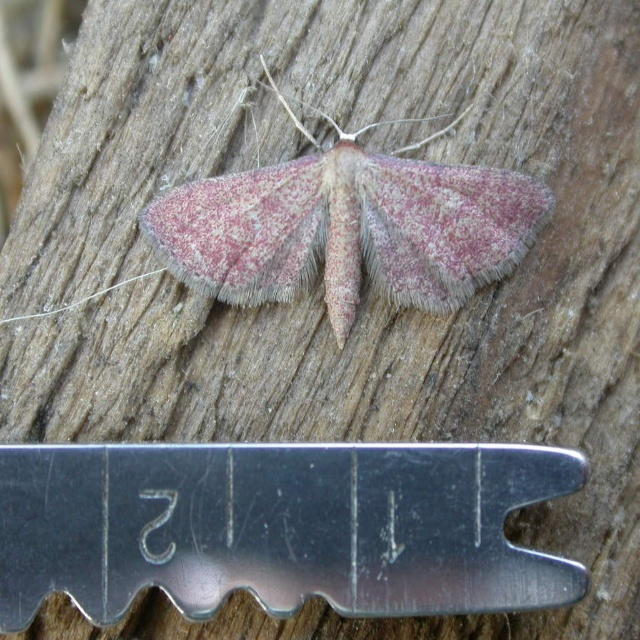Moths and butterflies: (135, 53, 559, 350)
